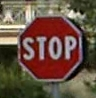stop: (16, 13, 83, 83)
